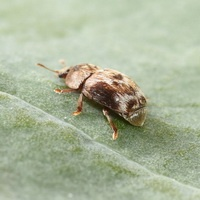insect: (37, 63, 146, 125)
